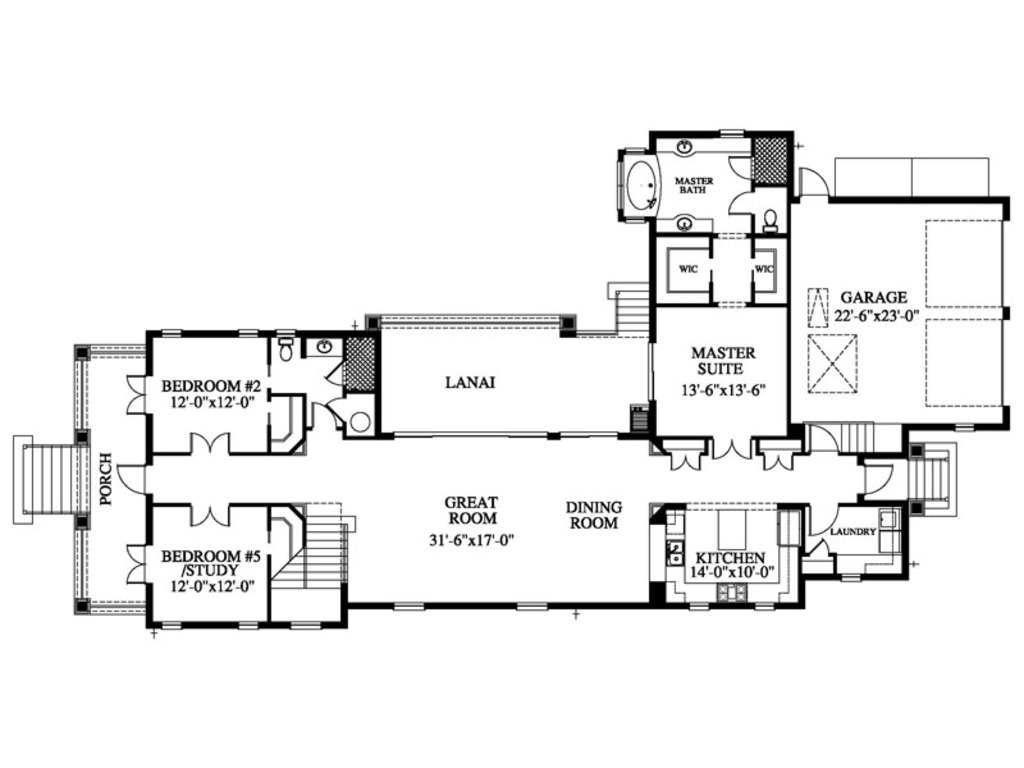door: (802, 500, 843, 539), (188, 500, 232, 531), (708, 434, 755, 463), (121, 372, 150, 417), (795, 165, 833, 199), (116, 461, 150, 499), (185, 431, 231, 458), (123, 541, 150, 585), (862, 463, 896, 495), (305, 397, 336, 432), (667, 446, 703, 474), (724, 155, 755, 186), (727, 192, 755, 221), (759, 452, 794, 473)
large_sink: (759, 202, 782, 233), (276, 337, 297, 362)
small_sink: (660, 131, 706, 161), (660, 213, 716, 235), (302, 337, 346, 359)
stairs: (8, 434, 89, 516), (274, 520, 350, 594), (911, 444, 957, 522), (609, 278, 650, 340), (836, 418, 876, 454)
tub: (622, 149, 663, 222)
twin_sink: (667, 538, 685, 569)
windows: (511, 599, 553, 616), (391, 598, 424, 615)
